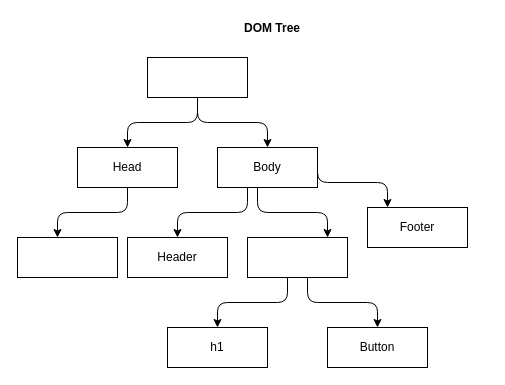
The diagram is 505 pixels wide and 385 high, and some of its shapes have lost their labels. The shapes that lost their labels are listed below. From the top down, each one's centre as x and y in pixels, then its label:
the point at 197,77: HTML
the point at 67,257: Title
the point at 297,257: Section 1
